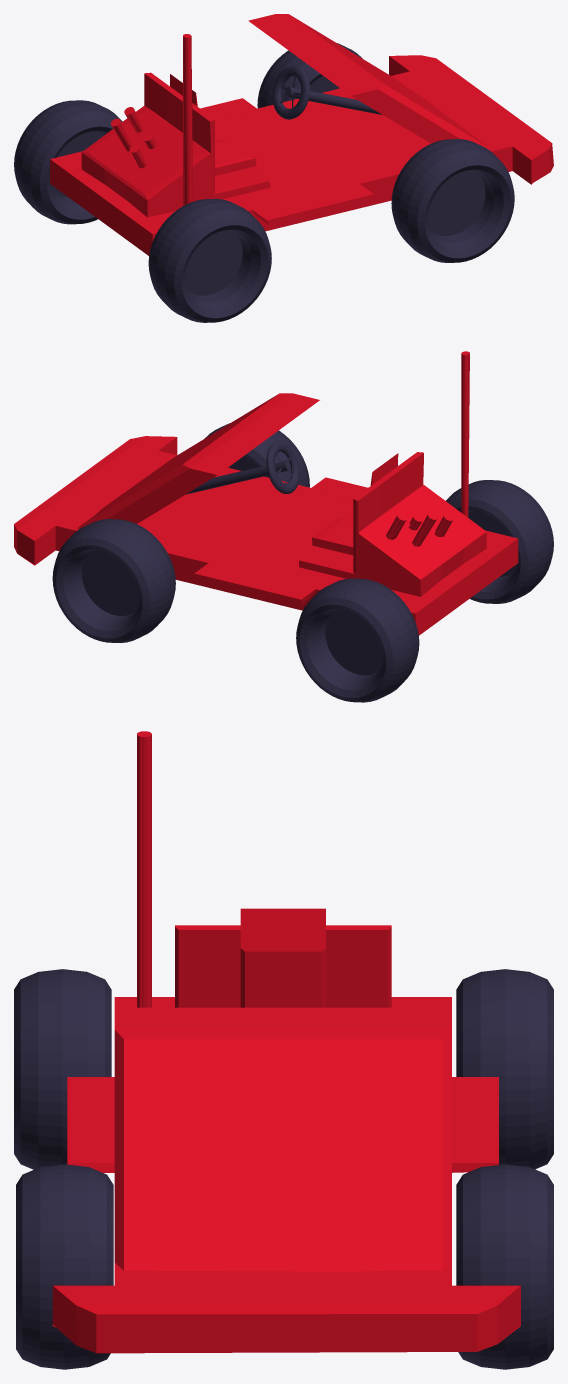
The model's file is kart.fbx.
3 views of the same model, one above another, from view 1: azimuth 30°, elevation 25°; view 2: azimuth 150°, elevation 25°; view 3: azimuth 270°, elevation 25° (orthographic). The views are drawn at different scales.
Visible parts, largest first — view 1: Cube, Torus.004, Torus.001, Torus.002, Torus.003, Torus, Cylinder; view 2: Cube, Torus.002, Torus.003, Torus.001, Torus.004, Torus, Cylinder; view 3: Cube, Torus.004, Torus.003, Torus.002, Torus.001.
Boxes of the visible parts, x1,y1,x2,y2 form: Cube: (50, 14, 553, 255); Torus.004: (391, 139, 514, 262); Torus.001: (148, 198, 271, 322); Torus.002: (14, 100, 122, 224); Torus.003: (257, 43, 362, 108); Torus: (272, 66, 309, 119); Cylinder: (284, 87, 382, 114); Cube: (14, 351, 518, 635); Torus.002: (296, 578, 419, 702); Torus.003: (52, 519, 175, 642); Torus.001: (446, 480, 553, 603); Torus.004: (204, 423, 309, 487); Torus: (266, 441, 299, 493); Cylinder: (186, 460, 290, 494); Cube: (52, 731, 520, 1353); Torus.004: (16, 1164, 113, 1369); Torus.003: (456, 1164, 553, 1369); Torus.002: (456, 969, 553, 1169); Torus.001: (14, 969, 111, 1169).
Size of the model in its own units: 459 by 283 by 320.
